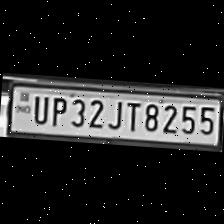2: (84, 96, 106, 128), (158, 100, 178, 134)
3: (66, 94, 86, 127)
5: (177, 100, 197, 134), (196, 102, 216, 135)
8: (140, 98, 160, 131)
J: (104, 96, 124, 130)
P: (46, 92, 68, 125)
T: (122, 98, 142, 131)
U: (28, 92, 50, 124)
